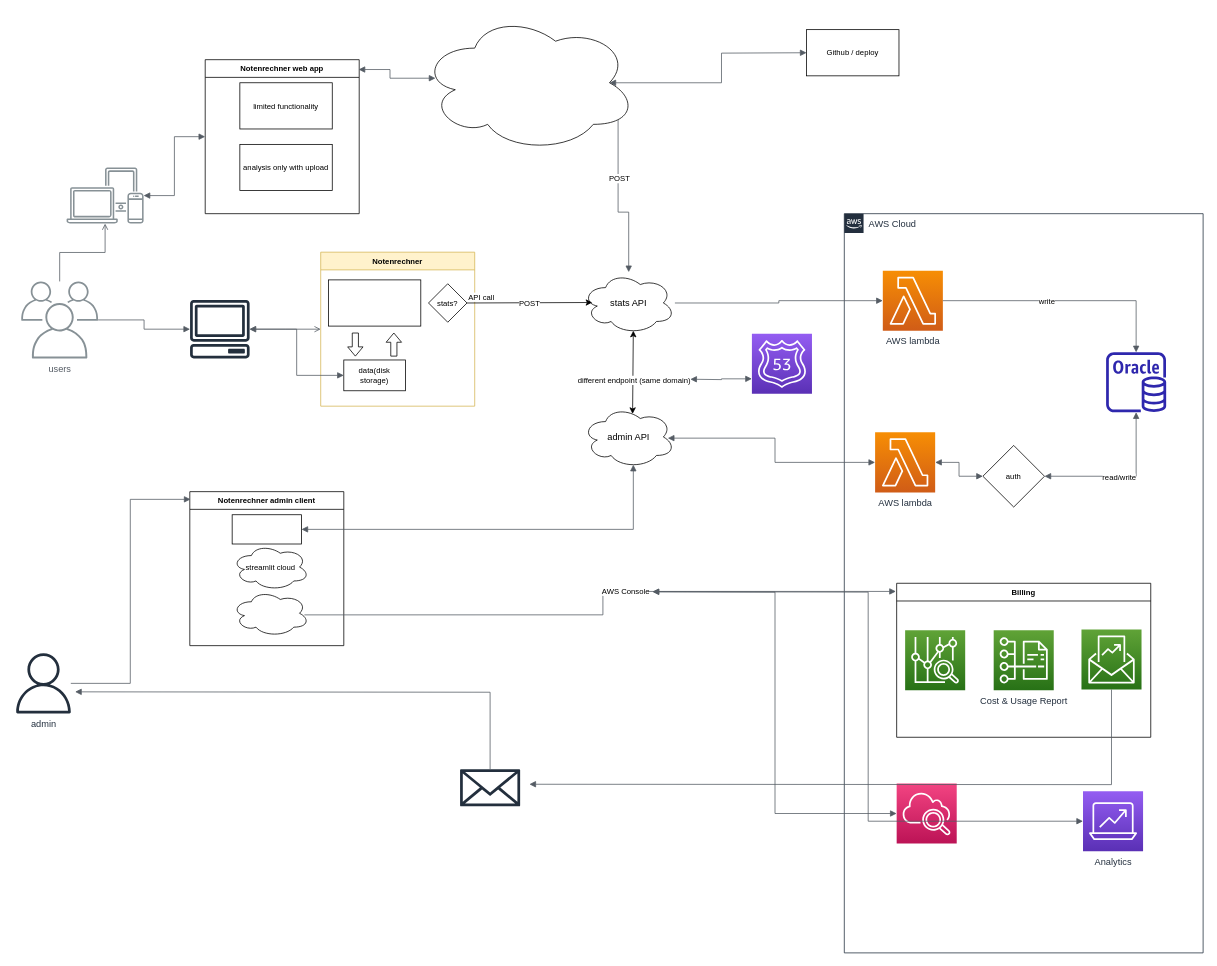
Image size: 1217x966. Some labels were removed from this diagram. Each missing label, with the centre of its shape:
"AWS" goes at [270,612].
"AWS Route 53" goes at [781,363].
"Budget Alert" goes at [490,787].
"Budgets" goes at [1111,659].
"Cloud Watch" goes at [926,813].
"Cost Explorer" goes at [934,659].
"localhost streamlit app" goes at [374,302].
"Stats" goes at [266,529].
"streamlit community cloud (web deploy config)" goes at [528,82].
"WWW" goes at [104,195].
